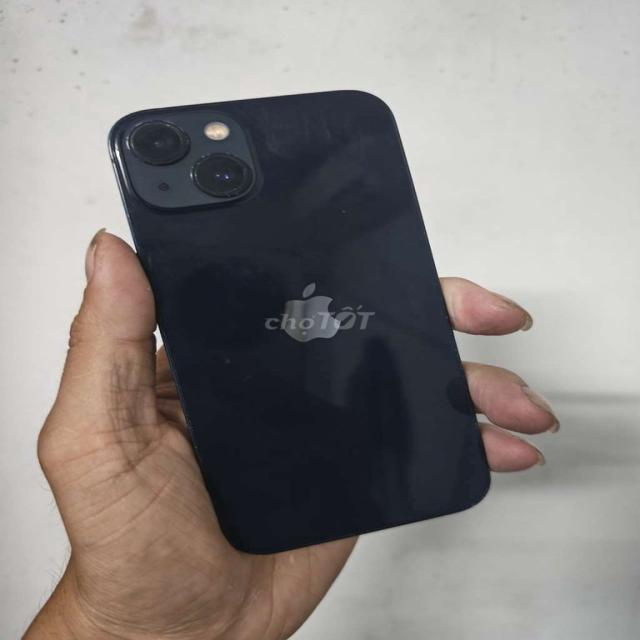scratch: (160, 352, 226, 469), (195, 342, 284, 394)
